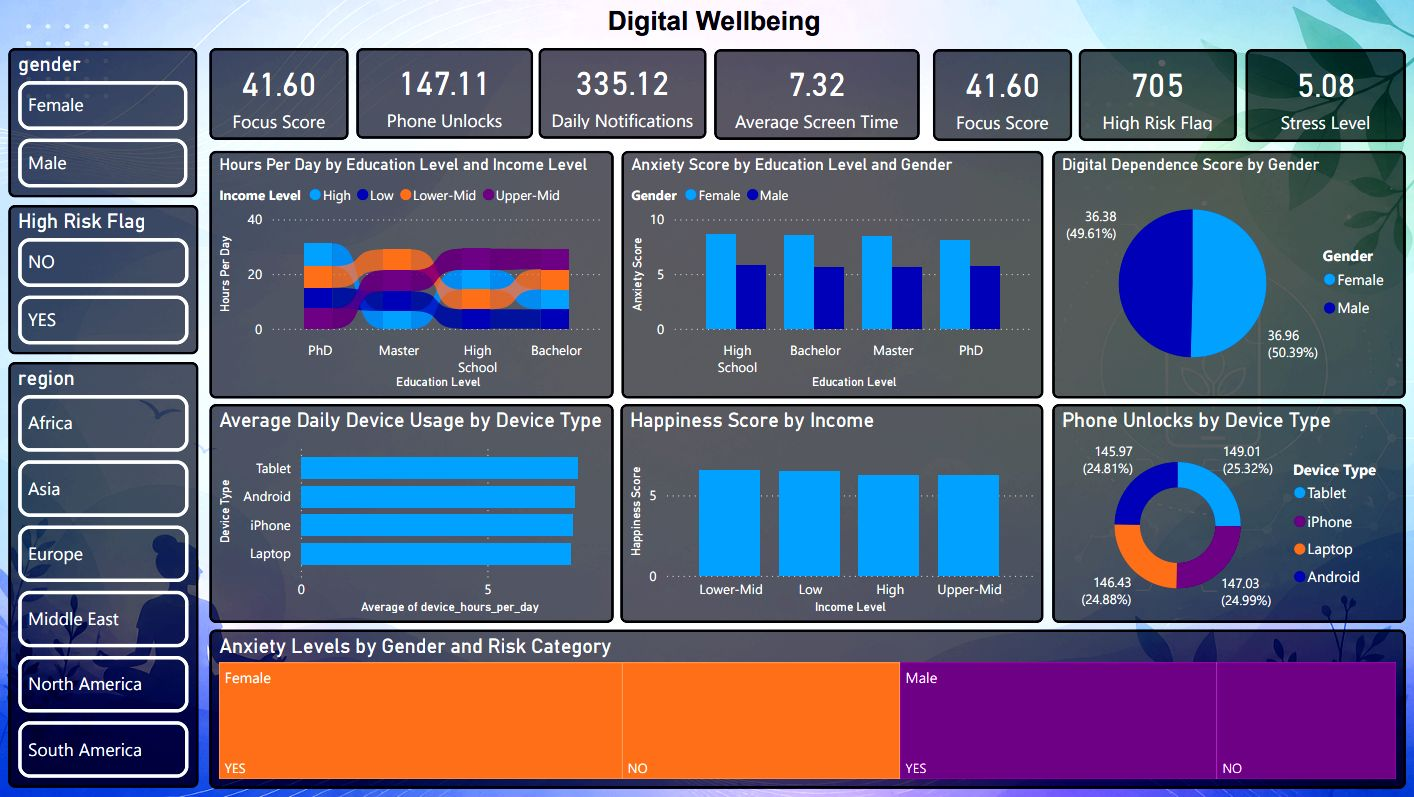

Layout of this report page (visuals, bound fields, positions):
{"tool":"powerbi","page":{"name":"Page 1","canvas":[1280,720],"ordinal":0},"visuals":[{"type":"image","box":[0,0,1280,720],"z":0},{"type":"textbox","box":[14.4,0,1265.6,42.2],"z":1000},{"type":"card","fields":{"Values":["Avg(Data.device_hours_per_day)"]},"box":[647.5,43.8,185,82.5],"z":2000},{"type":"card","fields":{"Values":["Avg(Data.focus_score)"]},"box":[190,42.9,125.7,82.9],"z":3000},{"type":"ribbonChart","fields":{"Category":["Data.education_level"],"Y":["Avg(Data.device_hours_per_day)"],"Series":["Data.income_level"]},"box":[190,136,366,224],"z":4000},{"type":"card","fields":{"Values":["Avg(Data.phone_unlocks)"]},"box":[322.7,43.3,160,82],"z":5000},{"type":"clusteredColumnChart","fields":{"Category":["Data.education_level"],"Y":["Avg(Data.anxiety_score)"],"Series":["Data.gender"]},"box":[562.5,136.2,382.5,223.8],"z":6000},{"type":"pieChart","title":"Digital Dependence Score by Gender","fields":{"Category":["Data.gender"],"Y":["Avg(Data.digital_dependence_score)"]},"box":[952.5,136.2,320,223.8],"z":7000},{"type":"card","fields":{"Values":["Avg(Data.notifications_per_day)"]},"box":[488.1,43.1,151.9,83.1],"z":8000},{"type":"card","fields":{"Values":["Avg(Data.sleep_hours)"]},"box":[839.4,43.1,125,83.8],"z":9000},{"type":"card","fields":{"Values":["Sum(Data.high_risk_flag)"]},"box":[970,44,152,84],"z":10000},{"type":"clusteredBarChart","title":"Average Daily Device Usage by Device Type","fields":{"Category":["Data.device_type"],"Y":["Avg(Data.device_hours_per_day)"]},"box":[189.5,365.2,366.2,197.6],"z":11000},{"type":"columnChart","title":"Happiness Score by Income","fields":{"Y":["Avg(Data.happiness_score)"],"Category":["Data.income_level"]},"box":[562.4,365.2,382.4,197.6],"z":12000},{"type":"donutChart","title":"Phone Unlocks by Device Type","fields":{"Y":["Avg(Data.phone_unlocks)"],"Category":["Data.device_type"]},"box":[952.5,365,320,198.1],"z":13000},{"type":"treemap","title":"Anxiety Levels by Gender and Risk Category","fields":{"Details":["Data. flag"],"Values":["Avg(Data.anxiety_score)"],"Group":["Data.gender"]},"box":[190,569.4,1083.1,143.1],"z":14000},{"type":"advancedSlicerVisual","fields":{"Values":["Data.gender"]},"box":[8,43,171,135],"z":15000},{"type":"advancedSlicerVisual","fields":{"Values":["Data.region"]},"box":[8,327,172,385],"z":16000},{"type":"advancedSlicerVisual","fields":{"Values":["Data. flag"]},"box":[8,185,172,135],"z":17000},{"type":"card","fields":{"Values":["Avg(Data.stress_level)"]},"box":[1129,44,144,84],"z":18000}]}

Visuals, with their boxes in screenshot pixels (x1, y1, x2, y2), scaled from the page's 1280x720 canvas onto the 1414x797 screenshot:
image: 0 0 1413 796
textbox: 16 0 1413 47
card - Avg(Data.device_hours_per_day): 715 48 920 140
card - Avg(Data.focus_score): 210 47 349 139
ribbonChart - Data.education_level x Avg(Data.device_hours_per_day): 210 151 614 398
card - Avg(Data.phone_unlocks): 356 48 533 139
clusteredColumnChart - Data.education_level x Avg(Data.anxiety_score): 621 151 1044 398
"Digital Dependence Score by Gender" pieChart: 1052 151 1406 398
card - Avg(Data.notifications_per_day): 539 48 707 140
card - Avg(Data.sleep_hours): 927 48 1065 140
card - Sum(Data.high_risk_flag): 1072 49 1239 142
"Average Daily Device Usage by Device Type" clusteredBarChart: 209 404 614 623
"Happiness Score by Income" columnChart: 621 404 1044 623
"Phone Unlocks by Device Type" donutChart: 1052 404 1406 623
"Anxiety Levels by Gender and Risk Category" treemap: 210 630 1406 789
advancedSlicerVisual - Data.gender: 9 48 198 197
advancedSlicerVisual - Data.region: 9 362 199 788
advancedSlicerVisual - Data. flag: 9 205 199 354
card - Avg(Data.stress_level): 1247 49 1406 142
